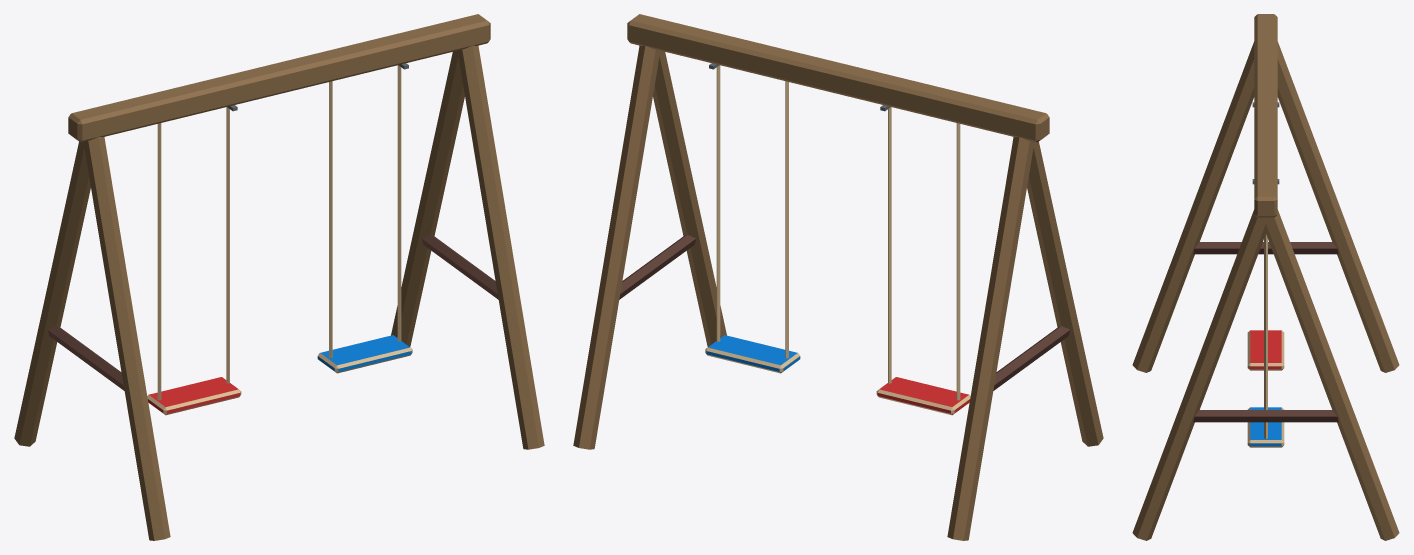
The model's file is schaukel.glb.
The picture shows the model from 3 angles, left to right: view 1: azimuth 30°, elevation 25°; view 2: azimuth 150°, elevation 25°; view 3: azimuth 270°, elevation 25°; orthographic projection. The views are drawn at different scales.
Parts seen in each view (by area): view 1: schaukel-m, schaukel2-m, schaukel1-m; view 2: schaukel-m, schaukel2-m, schaukel1-m; view 3: schaukel-m, schaukel2-m, schaukel1-m.
Part boxes in pixels (x1,y1,x2,y2): schaukel-m: (14,14,544,540); schaukel2-m: (317,65,412,373); schaukel1-m: (147,107,241,415); schaukel-m: (573,14,1103,540); schaukel2-m: (705,65,800,373); schaukel1-m: (876,107,970,415); schaukel-m: (1132,14,1399,540); schaukel2-m: (1247,234,1284,447); schaukel1-m: (1247,330,1284,370).
Bounding box in the file's own units: 2.65 × 2.33 × 1.61.
